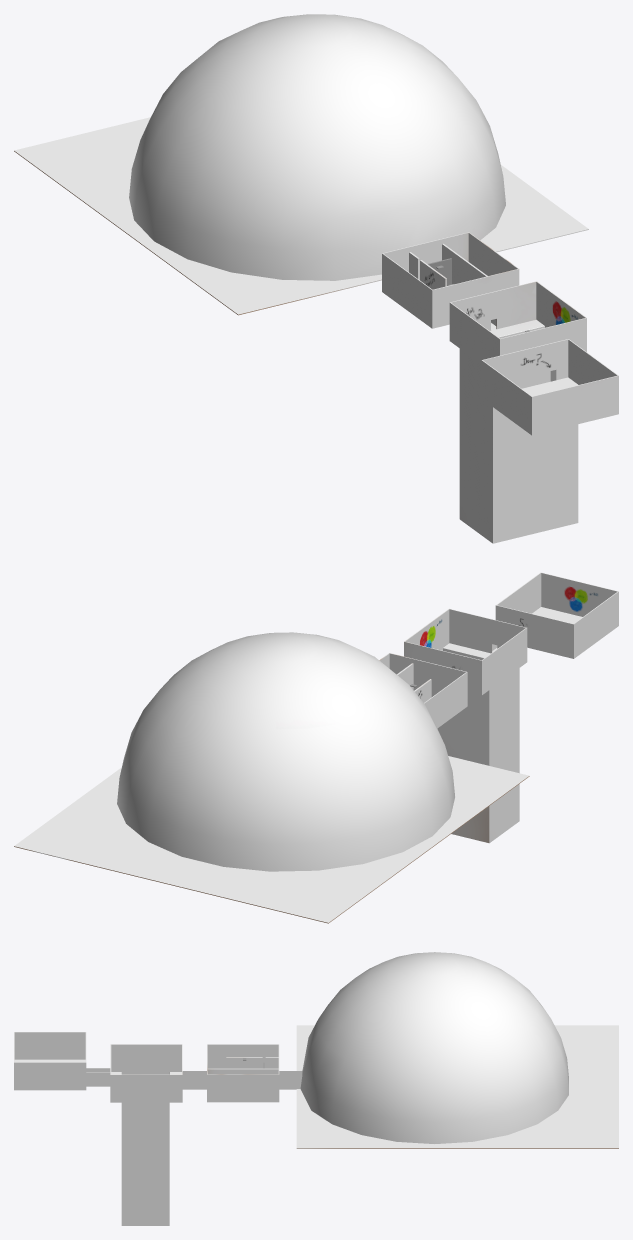
Rendered from environment.fbx.
3 renders of one model, top to bottom at view 1: azimuth 30°, elevation 25°; view 2: azimuth 150°, elevation 25°; view 3: azimuth 270°, elevation 25°, orthographic. The views are drawn at different scales.
Visible parts, largest first — view 1: polySurface7; view 2: polySurface7; view 3: polySurface7.
Boxes of the visible parts, left/top/right/bottom form: polySurface7: left=14, top=14, right=618, bottom=543; polySurface7: left=14, top=572, right=618, bottom=923; polySurface7: left=14, top=952, right=618, bottom=1225.
Bounding box in the file's own units: 97.04 × 90.66 × 202.
Materials: 2 (1 with a texture image).
